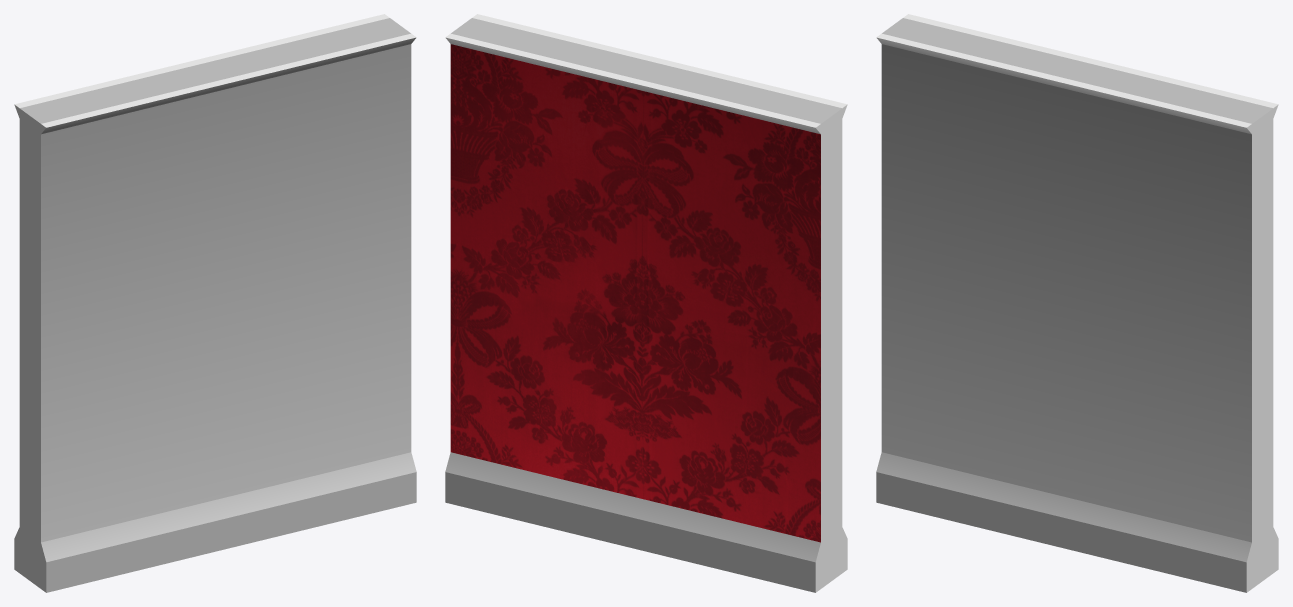
The model's file is ModularWallFinal (1).fbx.
3 views of the same model, side by side, from view 1: azimuth 30°, elevation 25°; view 2: azimuth 150°, elevation 25°; view 3: azimuth 330°, elevation 25° (orthographic).
Visible parts, largest first — view 1: ModularWallFinal__1_; view 2: ModularWallFinal__1_; view 3: ModularWallFinal__1_.
Part boxes in pixels (box(x1,y1,x2,y2)): ModularWallFinal__1_: box(14, 14, 416, 592); ModularWallFinal__1_: box(445, 14, 847, 592); ModularWallFinal__1_: box(876, 14, 1278, 592).
Bounding box in the file's own units: 254 × 305 × 38.1.
